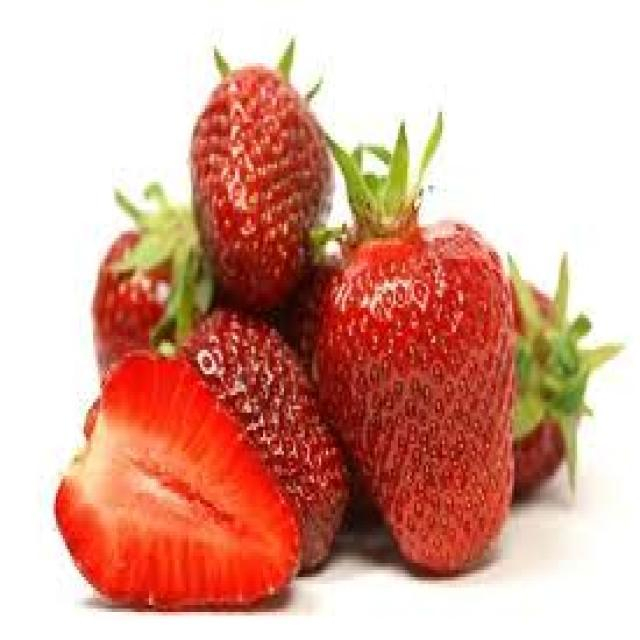Strawberry: (70, 63, 528, 619)
